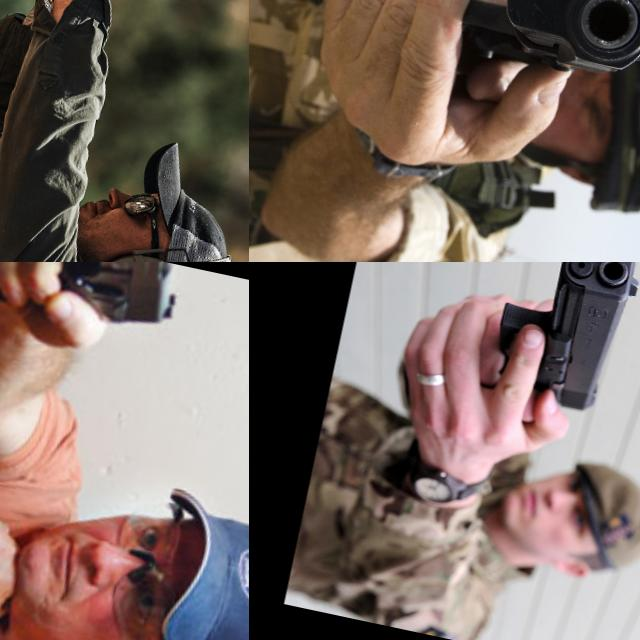handgun: (458, 262, 640, 419), (432, 0, 640, 110), (0, 262, 183, 357), (23, 0, 167, 50)
